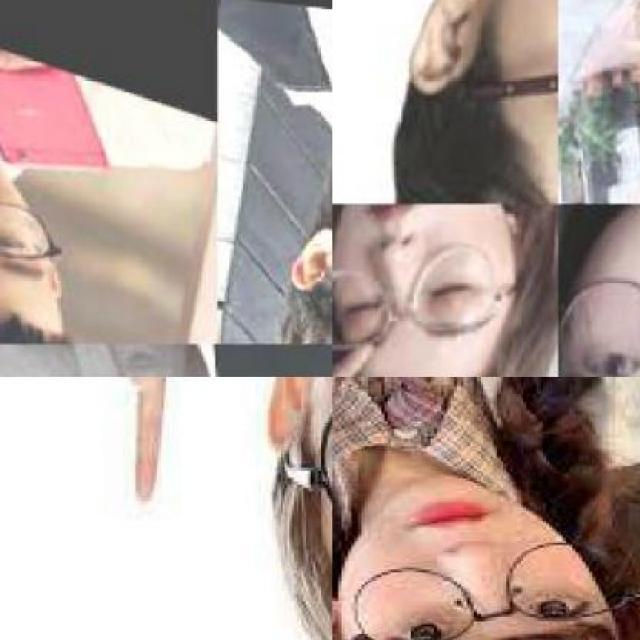glasses: (336, 523, 638, 639), (332, 245, 523, 362), (0, 206, 69, 265)
